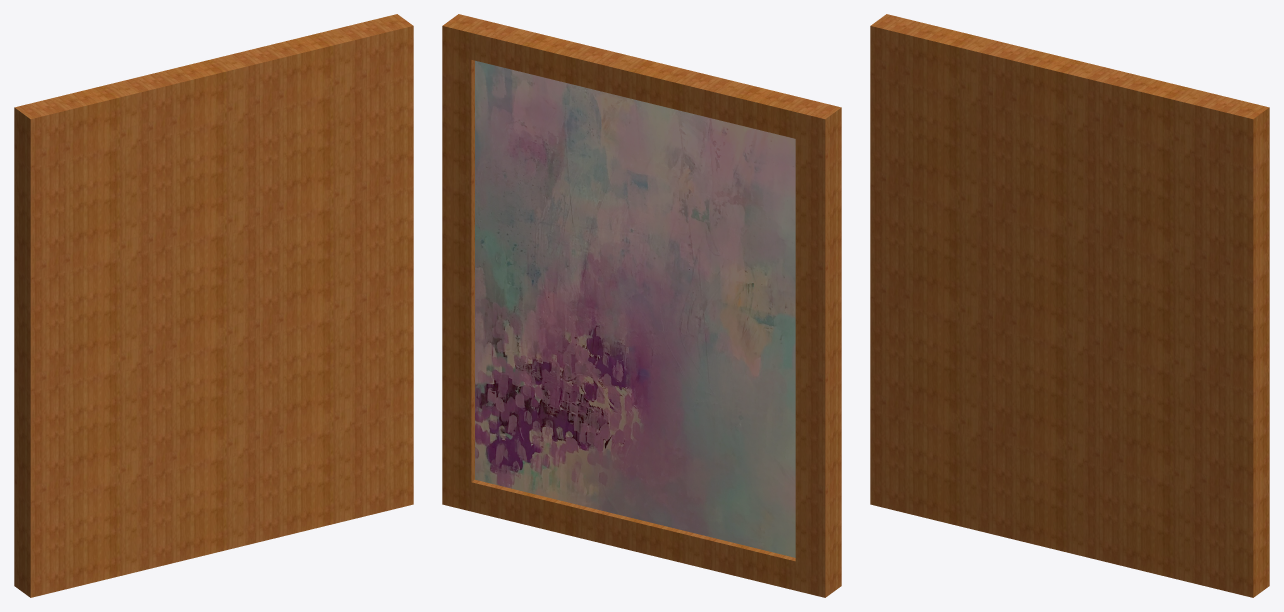
The model's file is figure8_vgf.gltf.
3 views of the same model, side by side, from view 1: azimuth 30°, elevation 25°; view 2: azimuth 150°, elevation 25°; view 3: azimuth 330°, elevation 25° (orthographic).
Visible parts, largest first — view 1: figure; view 2: figure; view 3: figure.
Boxes of the visible parts, x1,y1,x2,y2 form: figure: [14, 14, 413, 597]; figure: [442, 14, 841, 597]; figure: [870, 14, 1269, 597].
Bounding box in the file's own units: 2.19 × 2.61 × 0.1603.
2 materials, 2 textured.
